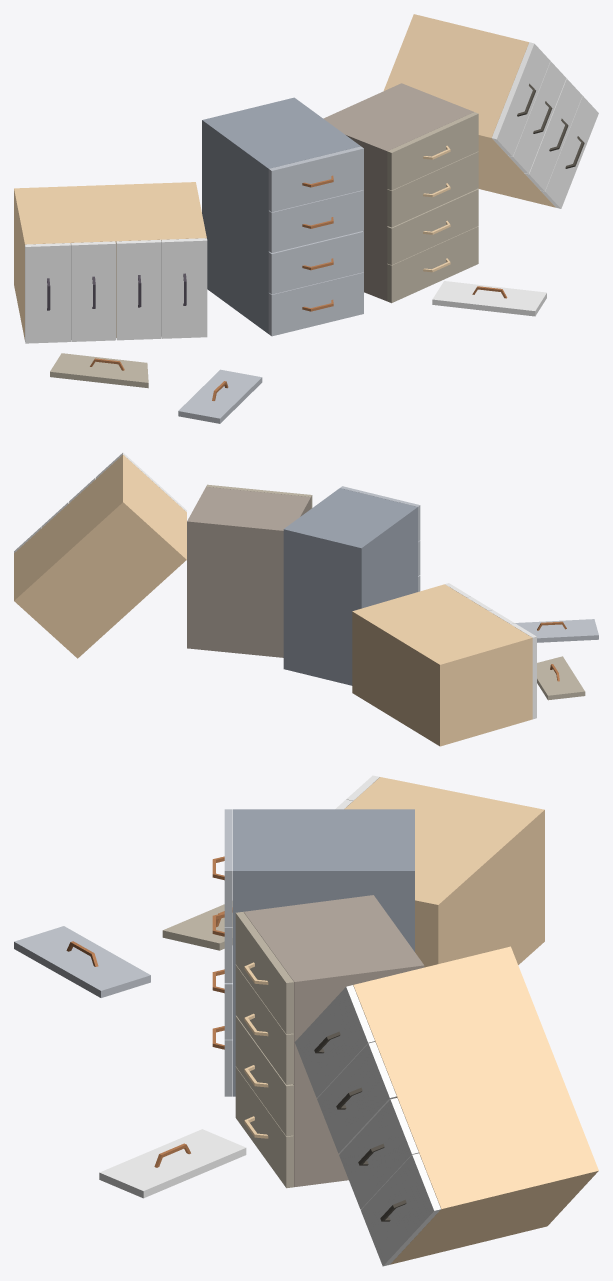
The model's file is fence.fbx.
3 views of the same model, one above another, from view 1: azimuth 30°, elevation 25°; view 2: azimuth 150°, elevation 25°; view 3: azimuth 270°, elevation 25° (orthographic). The views are drawn at different scales.
Visible parts, largest first — view 1: fence; view 2: fence; view 3: fence.
Boxes of the visible parts, x1,y1,x2,y2 form: fence: [14, 14, 598, 423]; fence: [14, 452, 598, 746]; fence: [14, 775, 598, 1266].
Bounding box in the file's own units: 429 × 124 × 260.
Materials: 1 (1 with a texture image).
